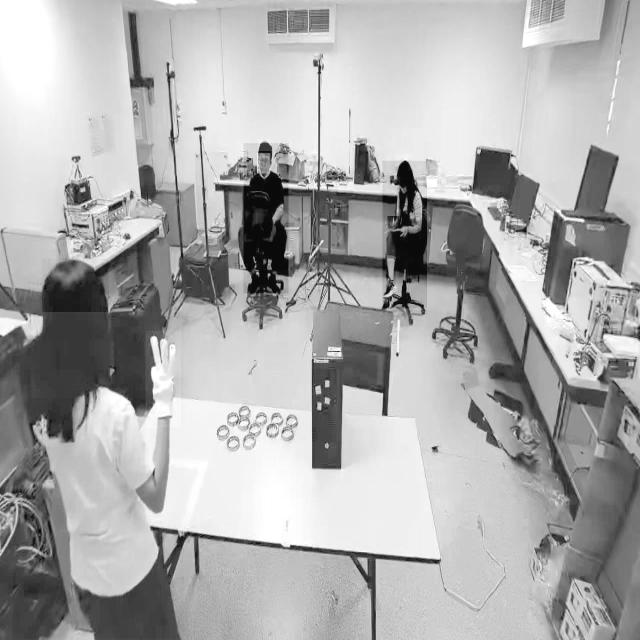face_nomask: (257, 153, 271, 174)
hand_glove: (145, 330, 181, 428)
hand_noglove: (388, 216, 400, 229), (398, 224, 409, 238)
head_nohelmet: (42, 259, 109, 313), (397, 159, 413, 174), (258, 140, 272, 152)
person: (13, 249, 184, 639), (243, 143, 289, 294), (382, 161, 428, 309)
shoes: (264, 270, 282, 300), (381, 270, 397, 302)
